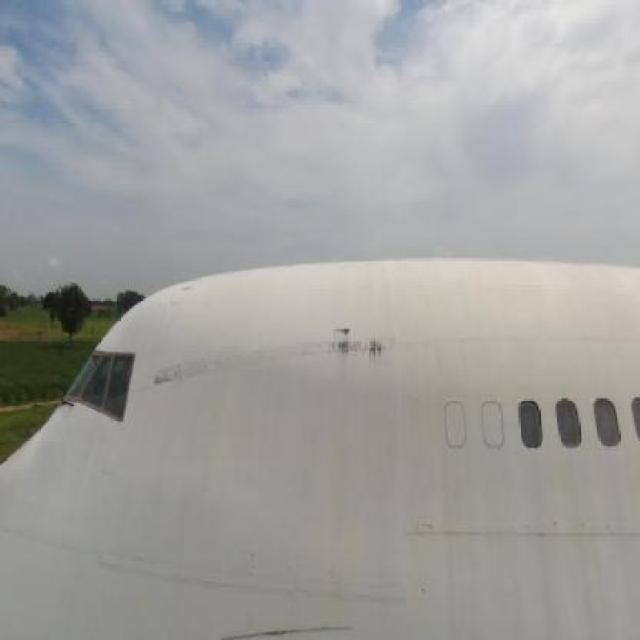Rust: (318, 315, 392, 377)
Scartch: (146, 359, 212, 399)
